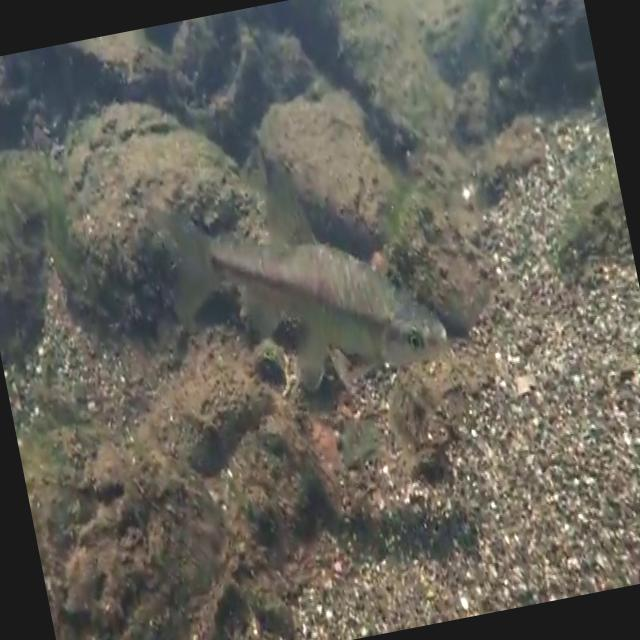Cakil Baligi: (150, 143, 456, 416)
